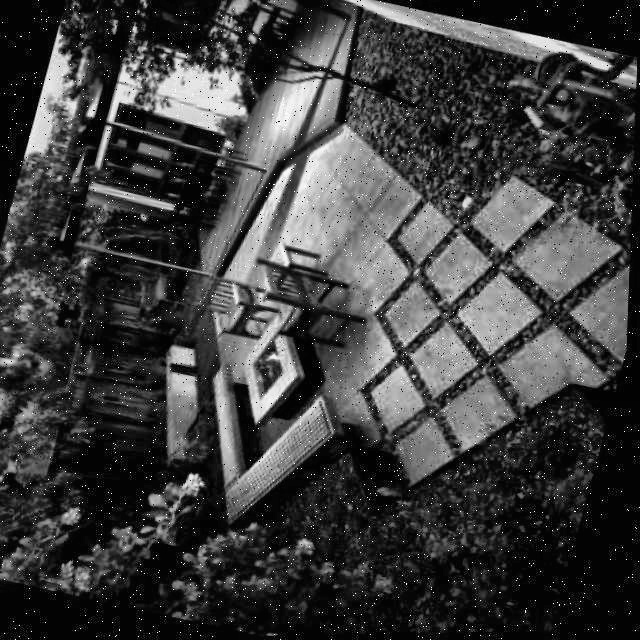Fire: (248, 343, 291, 390)
